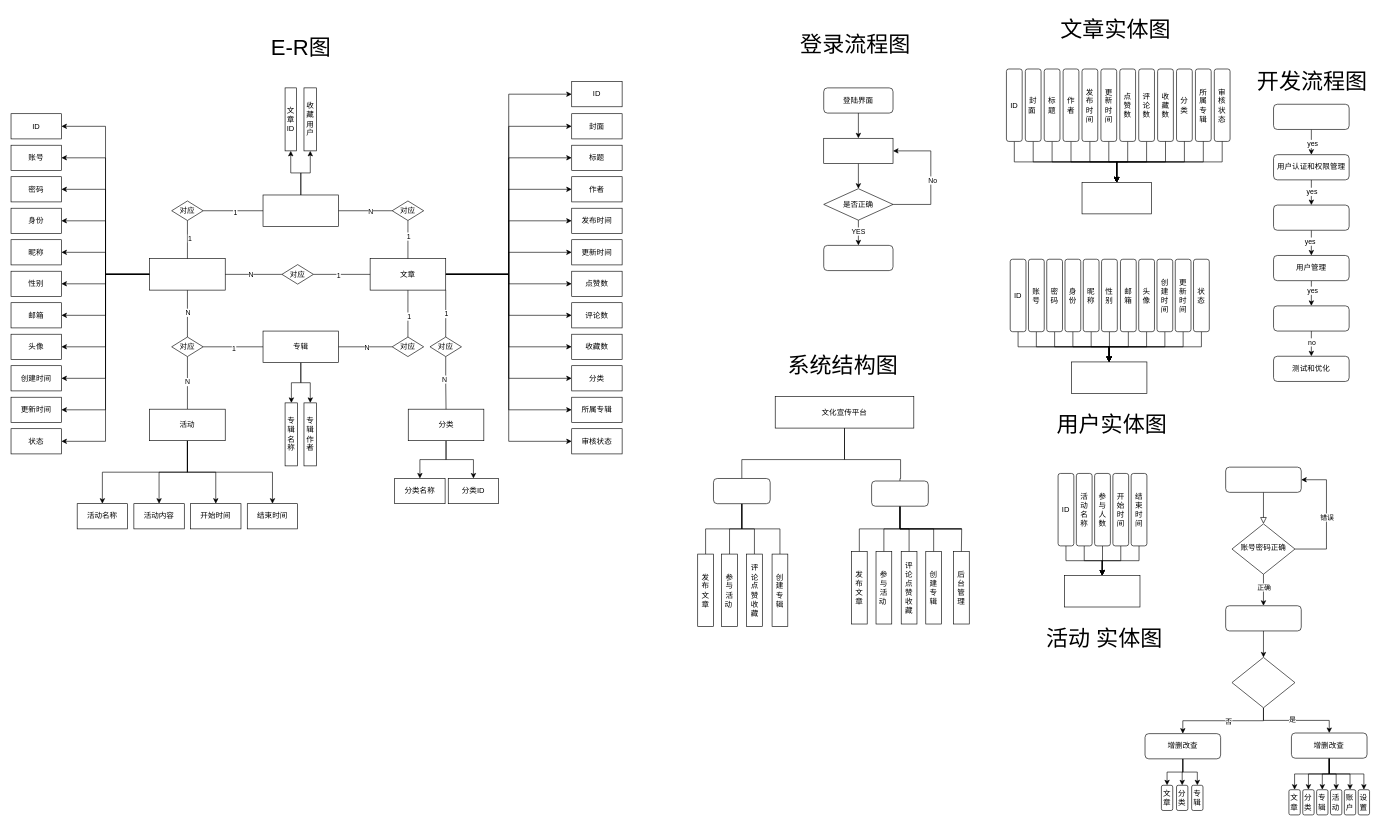
This 1384x826 diagram has some shape labels left out. The shapes that lost their labels are listed below. From the top down, each one's centre as x and y in pixels, then its label:
At pixel 1311 116: "项目准备和基础搭建".
At pixel 858 150: "输入账号密码".
At pixel 300 210: "收藏".
At pixel 1116 198: "文章信息".
At pixel 1311 217: "文章,活动管理".
At pixel 187 274: "用户".
At pixel 858 258: "首页".
At pixel 1311 318: "点赞收藏评论".
At pixel 1109 377: "用户信息".
At pixel 741 491: "普通用户".
At pixel 899 493: "管理员".
At pixel 1263 479: "登陆".
At pixel 1102 591: "活动信息".
At pixel 1263 618: "主页".
At pixel 1263 682: "是否管理员".
